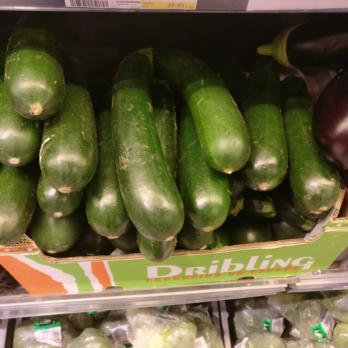Cucumber: (1, 16, 325, 248)
